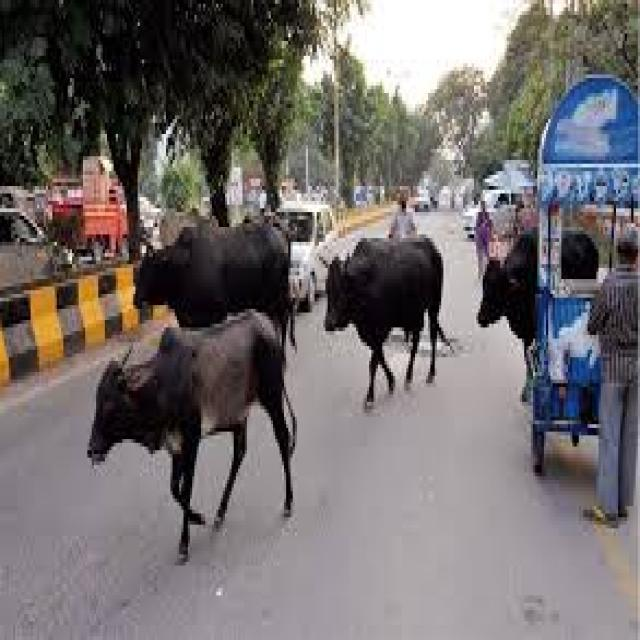cattle ahead at: (86, 308, 295, 552), (325, 227, 451, 412), (130, 219, 306, 341)
person ahead at: (587, 222, 640, 533)
